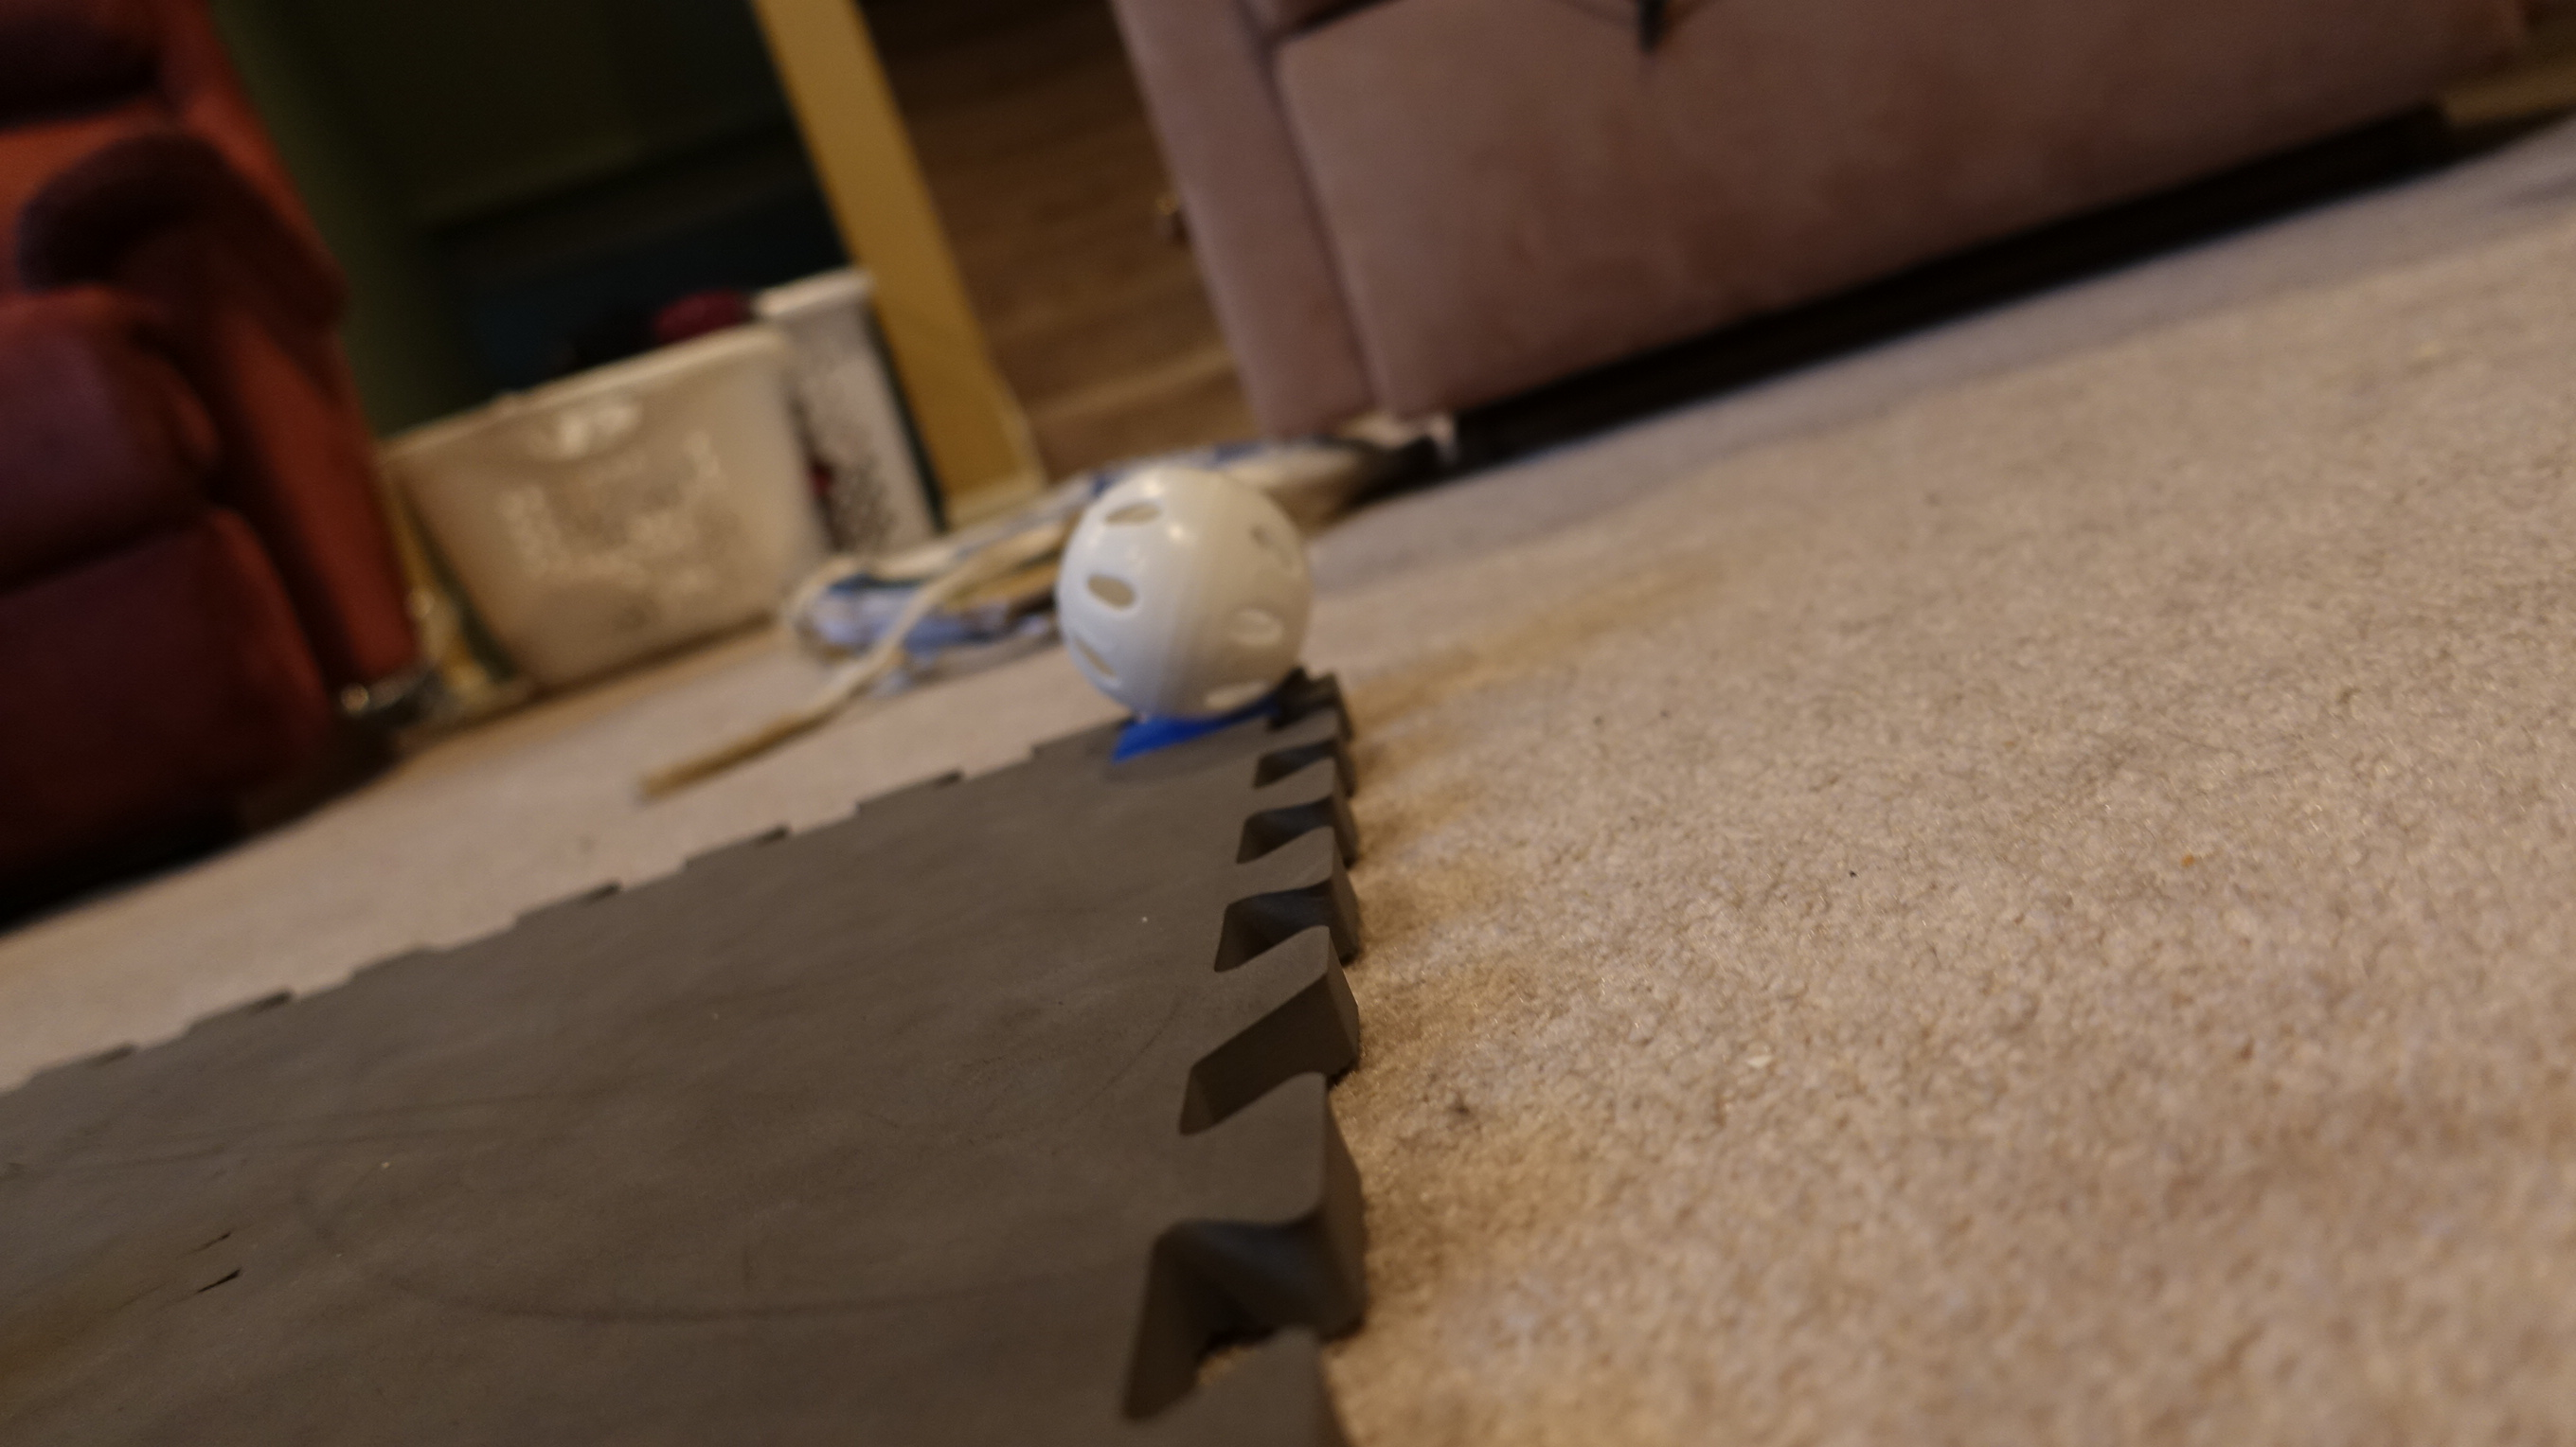silver: (1047, 465, 1311, 729)
